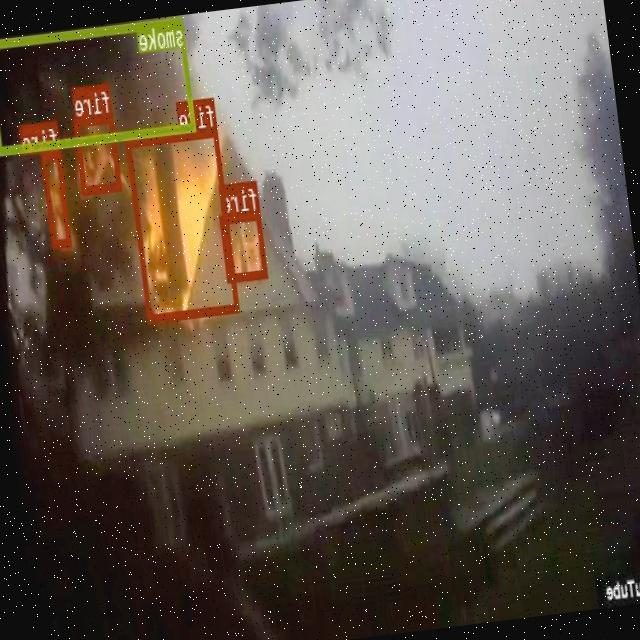fire: (126, 126, 240, 322), (74, 112, 123, 194), (220, 208, 268, 280), (42, 149, 72, 246)
smoke: (0, 14, 197, 153)
